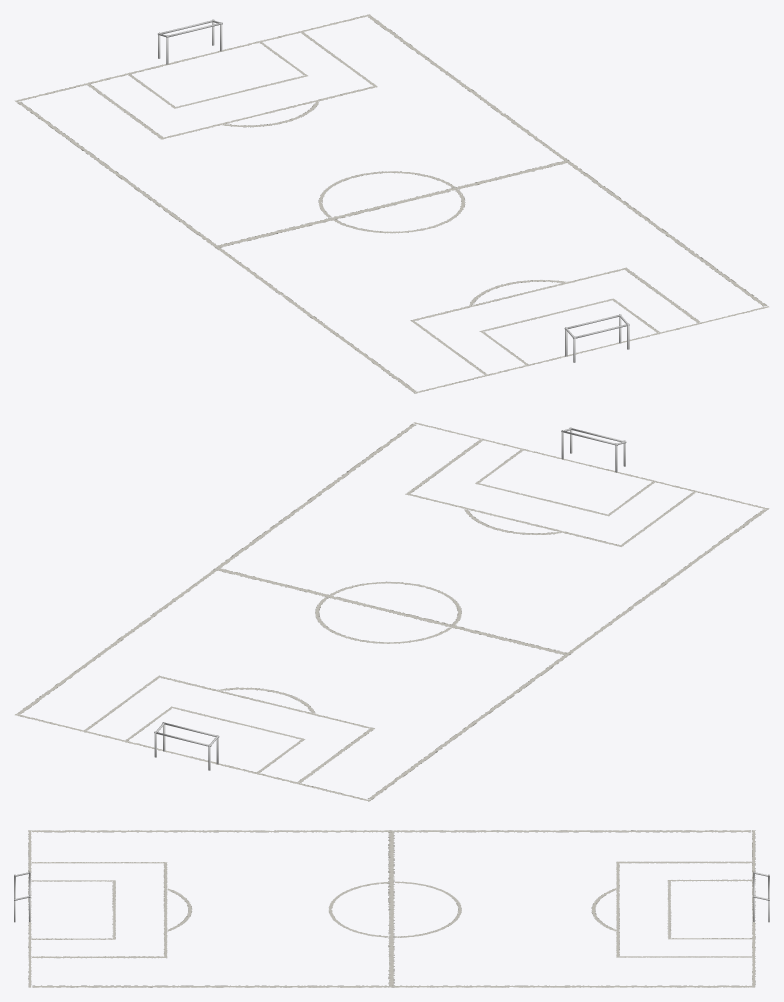
File: SoccerCamp.fbx
3 renders of one model, top to bottom at view 1: azimuth 30°, elevation 25°; view 2: azimuth 150°, elevation 25°; view 3: azimuth 270°, elevation 25°, orthographic. The views are drawn at different scales.
Visible parts, largest first — view 1: SoccerCamp; view 2: SoccerCamp; view 3: SoccerCamp.
Part boxes in pixels (<box>): SoccerCamp: <box>15,14,768,393</box>; SoccerCamp: <box>15,422,769,801</box>; SoccerCamp: <box>14,830,769,987</box>.
Size of what is drawn, in the model's own units: 3110 by 240 by 6307.
